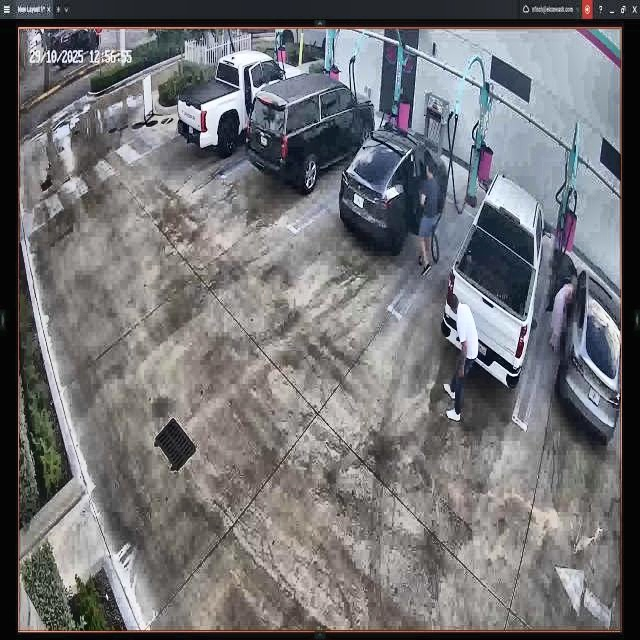Car: (440, 178, 544, 383), (250, 70, 374, 186), (339, 127, 448, 241), (179, 54, 304, 152)
